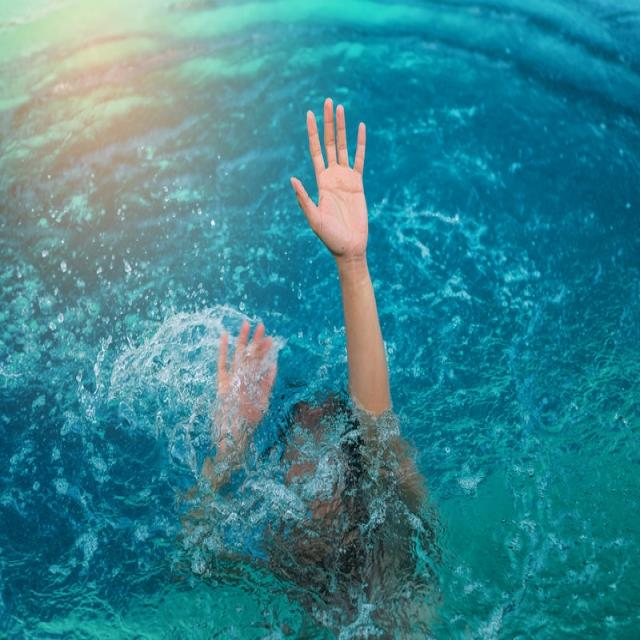Drowning: (188, 107, 426, 546)
